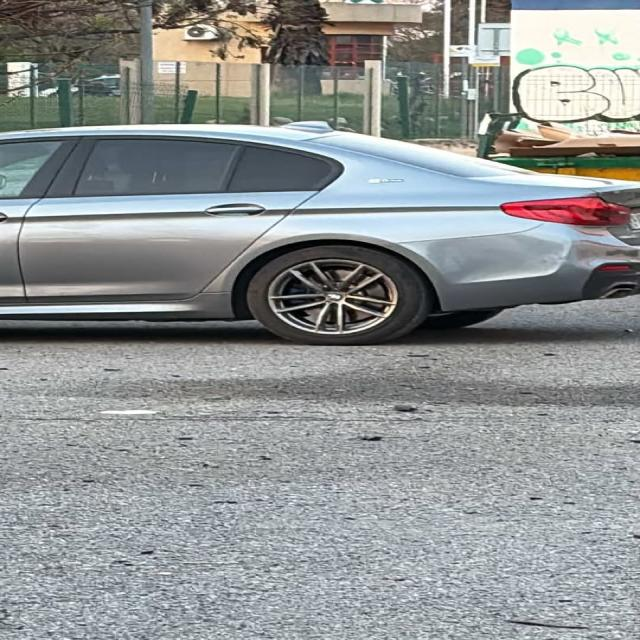jante: (266, 259, 399, 335), (346, 297, 354, 304)
roda: (247, 245, 436, 346)
